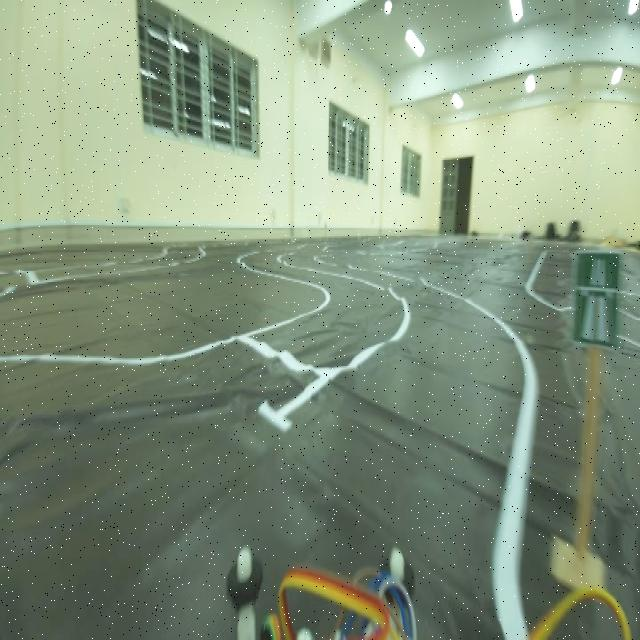highway_entry: (567, 245, 623, 360)
